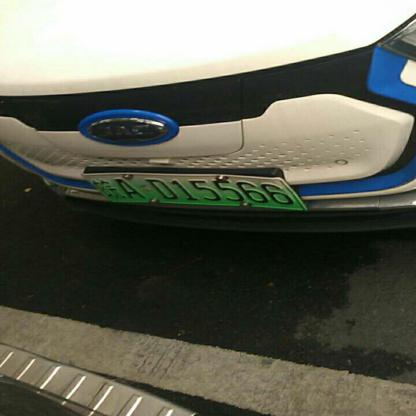lp: (79, 170, 306, 209)
